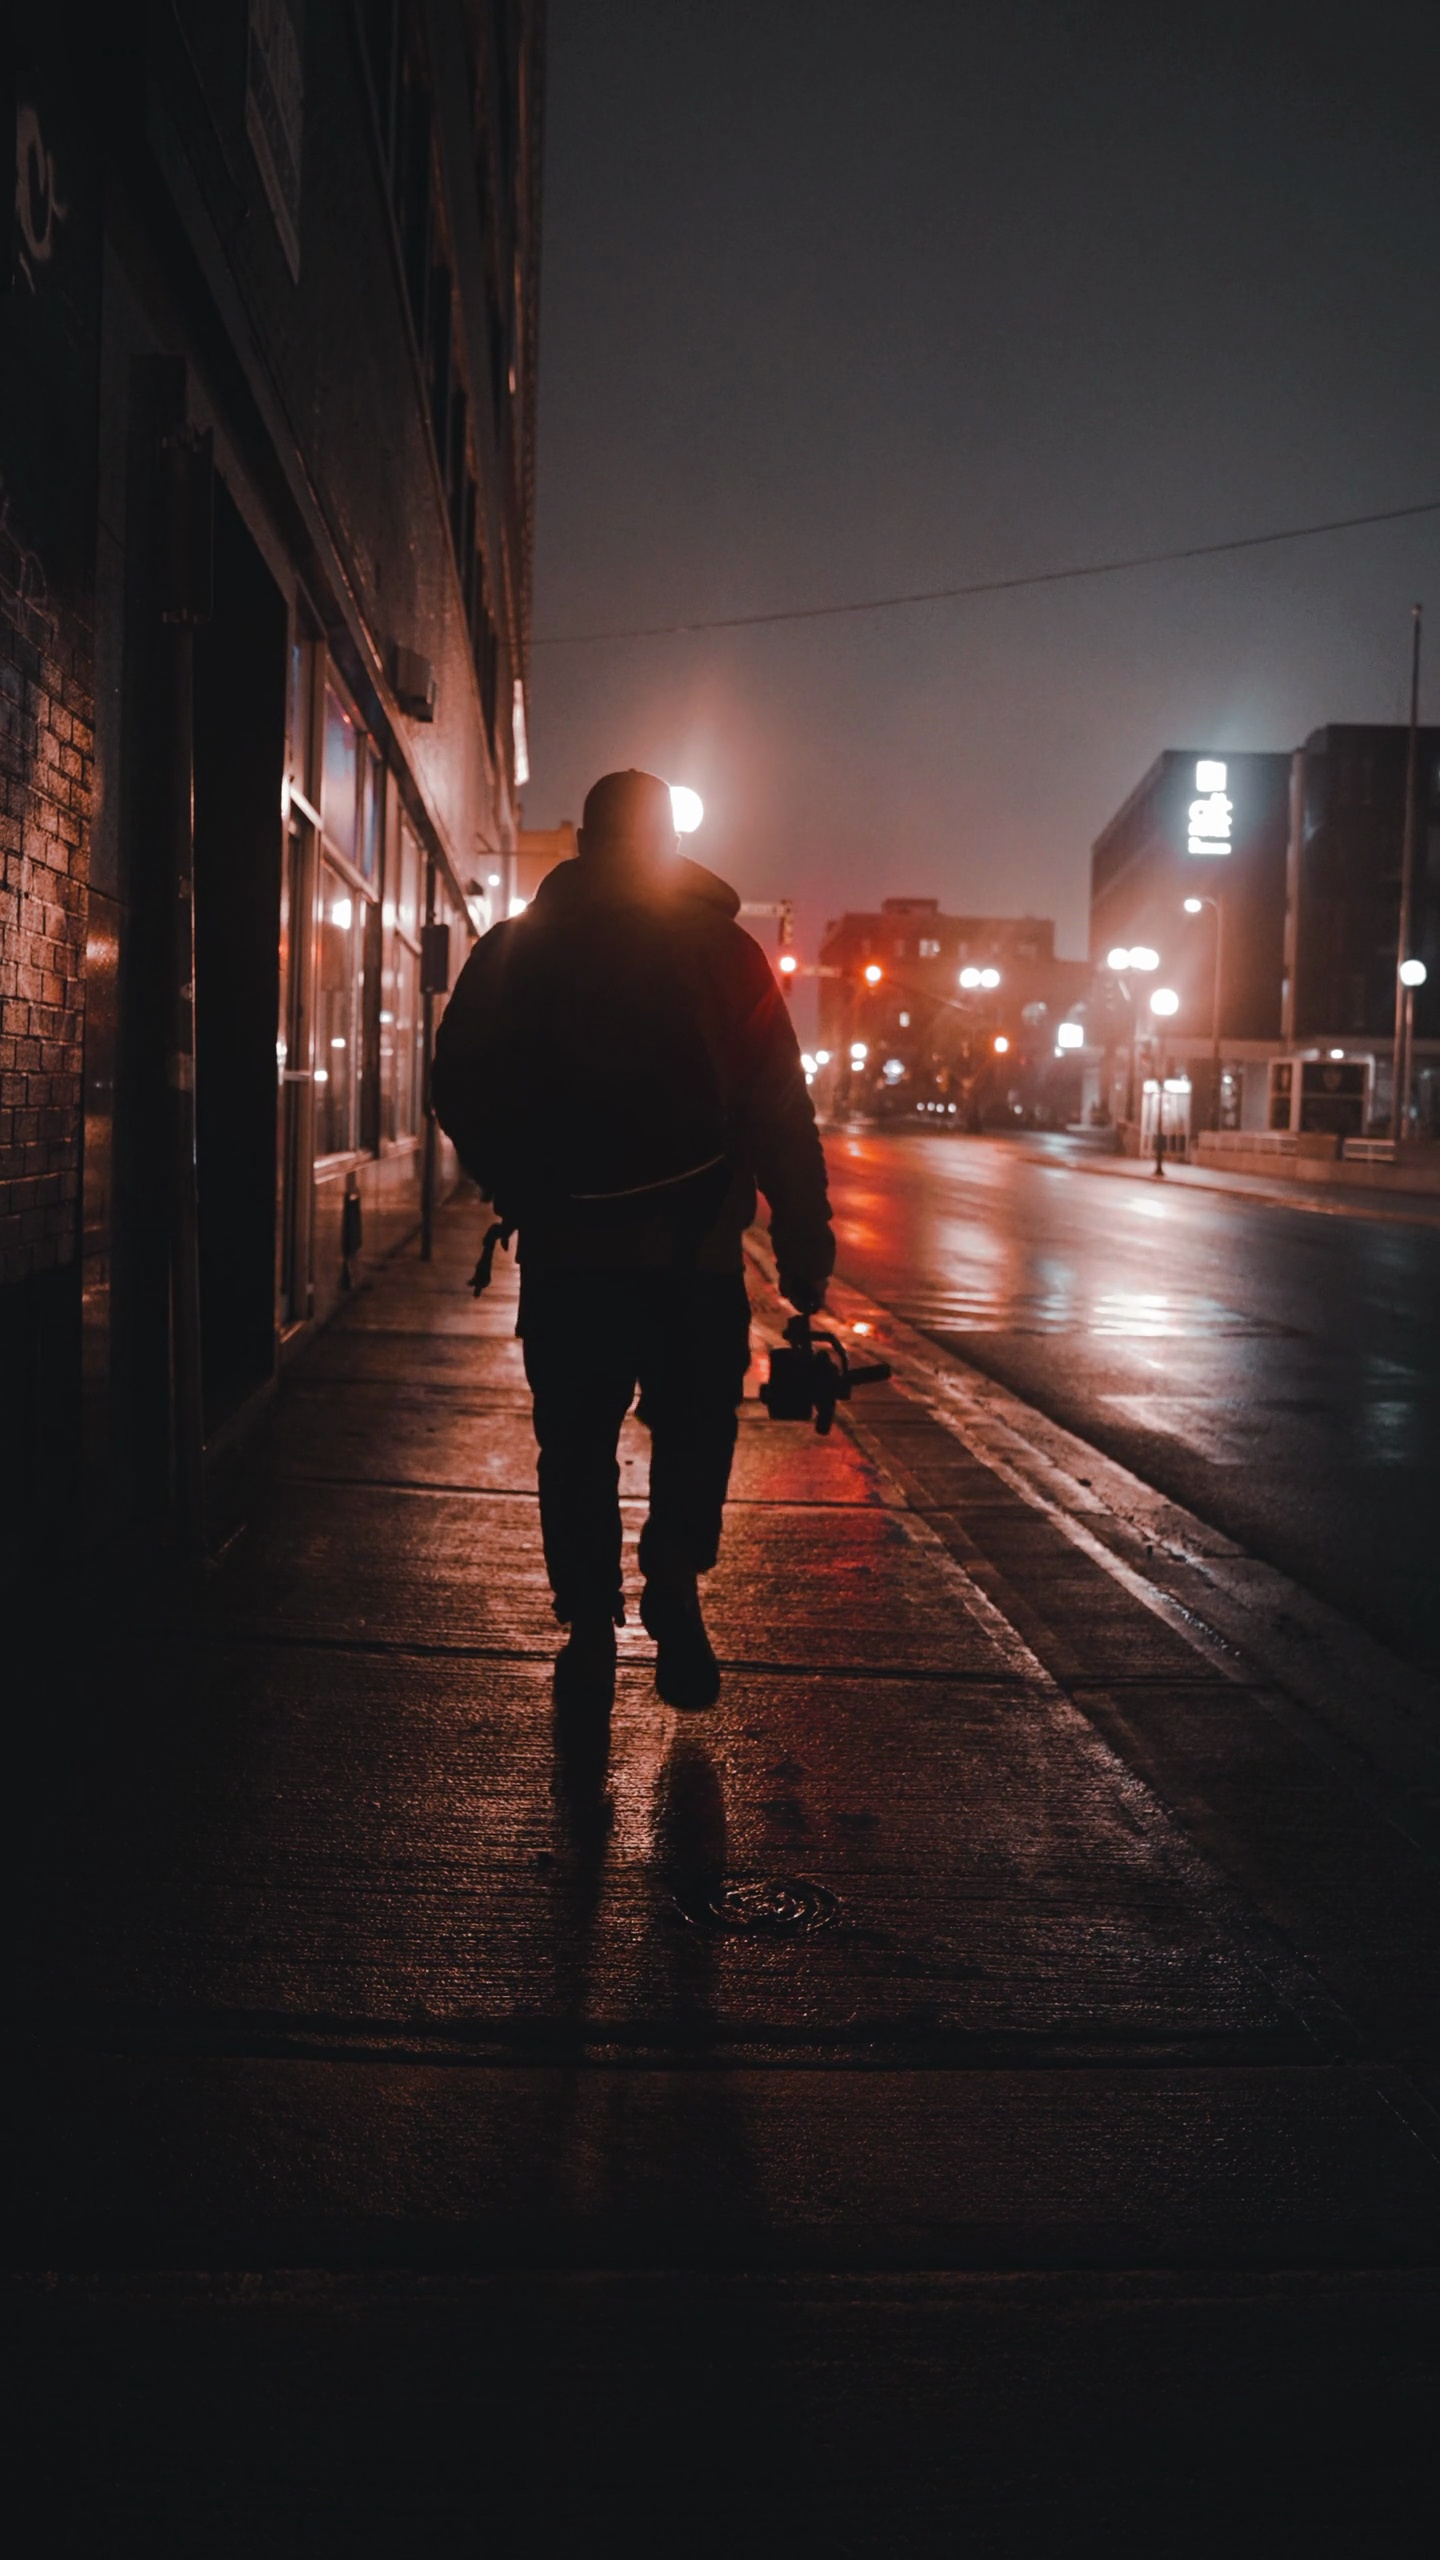person: (427, 763, 836, 1694)
